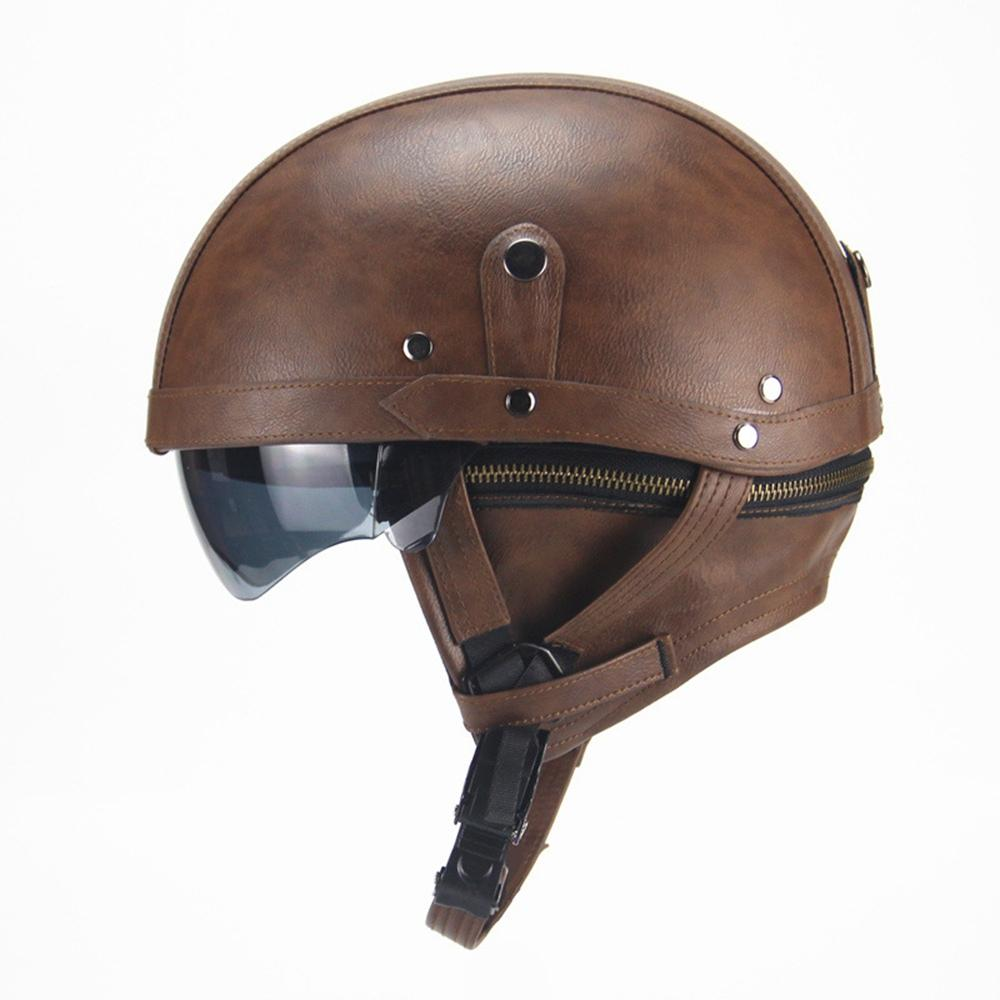with_helmet: (139, 55, 875, 710)
